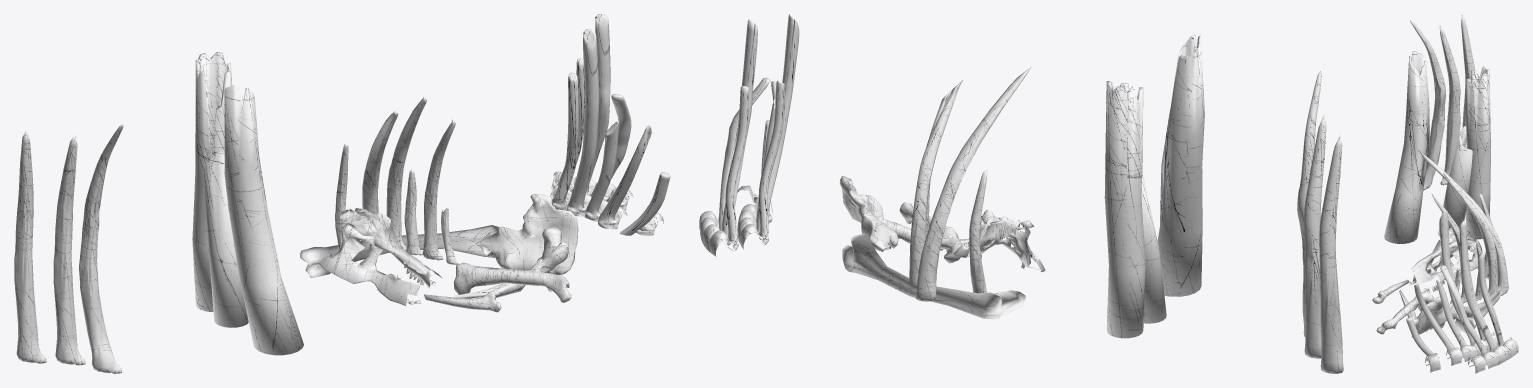
The picture shows the model from 3 angles, left to right: view 1: azimuth 30°, elevation 25°; view 2: azimuth 150°, elevation 25°; view 3: azimuth 270°, elevation 25°; orthographic projection. The views are drawn at different scales.
Visible parts, largest first — view 1: Tube03_1, objAbdomen02_1, Tube01_1, skull01_1, 骨架_obj, Tube02_1, objRight_Thigh63_1, objRight_Thigh61_1, objRight_Thigh62_1, objAbdomen03_1, objRight_Thigh73_1, L_Knee01_1 (+7 smaller); view 2: Tube03_1, Tube01_1, objAbdomen03_1, objAbdomen02_1, objRight_Thigh61_1, L_Knee01_1, objRight_Thigh72_1, objRight_Thigh62_1, objRight_Thigh71_1, Tube02_1, skull01_1, 骨架_obj (+4 smaller); view 3: Tube03_1, Tube01_1, objAbdomen03_1, objAbdomen02_1, objRight_Thigh63_1, Tube02_1, objRight_Thigh62_1, skull01_1, 骨架_obj, objRight_Thigh71_1, objRight_Thigh72_1, objRight_Thigh61_1 (+7 smaller).
Boxes of the visible parts, left/top/right/bottom form: Tube03_1: left=224, top=85, right=303, bottom=355; objAbdomen02_1: left=550, top=29, right=651, bottom=229; Tube01_1: left=192, top=52, right=231, bottom=311; skull01_1: left=319, top=208, right=442, bottom=305; 骨架_obj: left=476, top=172, right=670, bottom=274; Tube02_1: left=203, top=150, right=248, bottom=327; objRight_Thigh63_1: left=79, top=123, right=123, bottom=373; objRight_Thigh61_1: left=14, top=130, right=46, bottom=363; objRight_Thigh62_1: left=53, top=134, right=85, bottom=365; objAbdomen03_1: left=552, top=14, right=632, bottom=210; objRight_Thigh73_1: left=453, top=262, right=571, bottom=302; L_Knee01_1: left=300, top=225, right=499, bottom=277; Tube03_1: left=1157, top=34, right=1204, bottom=296; Tube01_1: left=1104, top=81, right=1145, bottom=338; objAbdomen03_1: left=699, top=19, right=770, bottom=256; objAbdomen02_1: left=737, top=14, right=799, bottom=249; objRight_Thigh61_1: left=1319, top=135, right=1343, bottom=373; L_Knee01_1: left=842, top=234, right=1025, bottom=319; objRight_Thigh72_1: left=915, top=66, right=1031, bottom=301; objRight_Thigh62_1: left=1303, top=115, right=1326, bottom=358; objRight_Thigh71_1: left=909, top=80, right=963, bottom=283; Tube02_1: left=1141, top=173, right=1166, bottom=323; skull01_1: left=953, top=214, right=1045, bottom=271; 骨架_obj: left=737, top=120, right=898, bottom=251; Tube03_1: left=1384, top=51, right=1430, bottom=243; Tube01_1: left=1465, top=66, right=1490, bottom=239; objAbdomen03_1: left=1440, top=220, right=1518, bottom=373; objAbdomen02_1: left=1414, top=211, right=1498, bottom=365; objRight_Thigh63_1: left=1410, top=20, right=1445, bottom=190; Tube02_1: left=1438, top=126, right=1472, bottom=235; objRight_Thigh62_1: left=1439, top=25, right=1460, bottom=185; skull01_1: left=1409, top=228, right=1482, bottom=291; 骨架_obj: left=1406, top=296, right=1457, bottom=372; objRight_Thigh71_1: left=1443, top=173, right=1497, bottom=294; objRight_Thigh72_1: left=1418, top=150, right=1508, bottom=296; objRight_Thigh61_1: left=1461, top=15, right=1475, bottom=127.
Bounding box in the file's own units: 1.1 × 0.4653 × 0.3358.
1 material, 1 textured.
